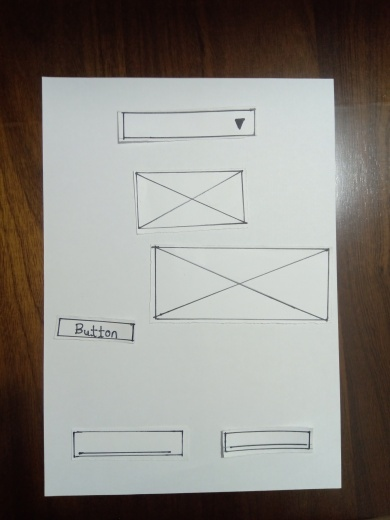button: (58, 319, 136, 343)
dropdown: (120, 112, 253, 139)
img: (153, 244, 329, 325), (134, 166, 248, 228)
text: (72, 430, 188, 457), (217, 428, 314, 458)
